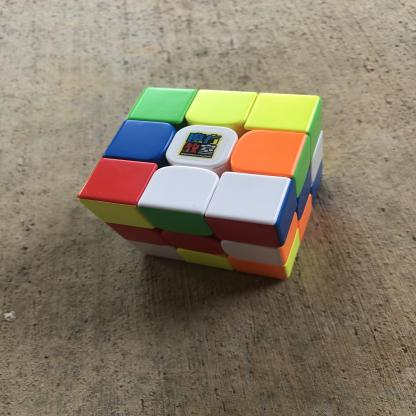UnsolvedCube: (75, 86, 345, 282)
